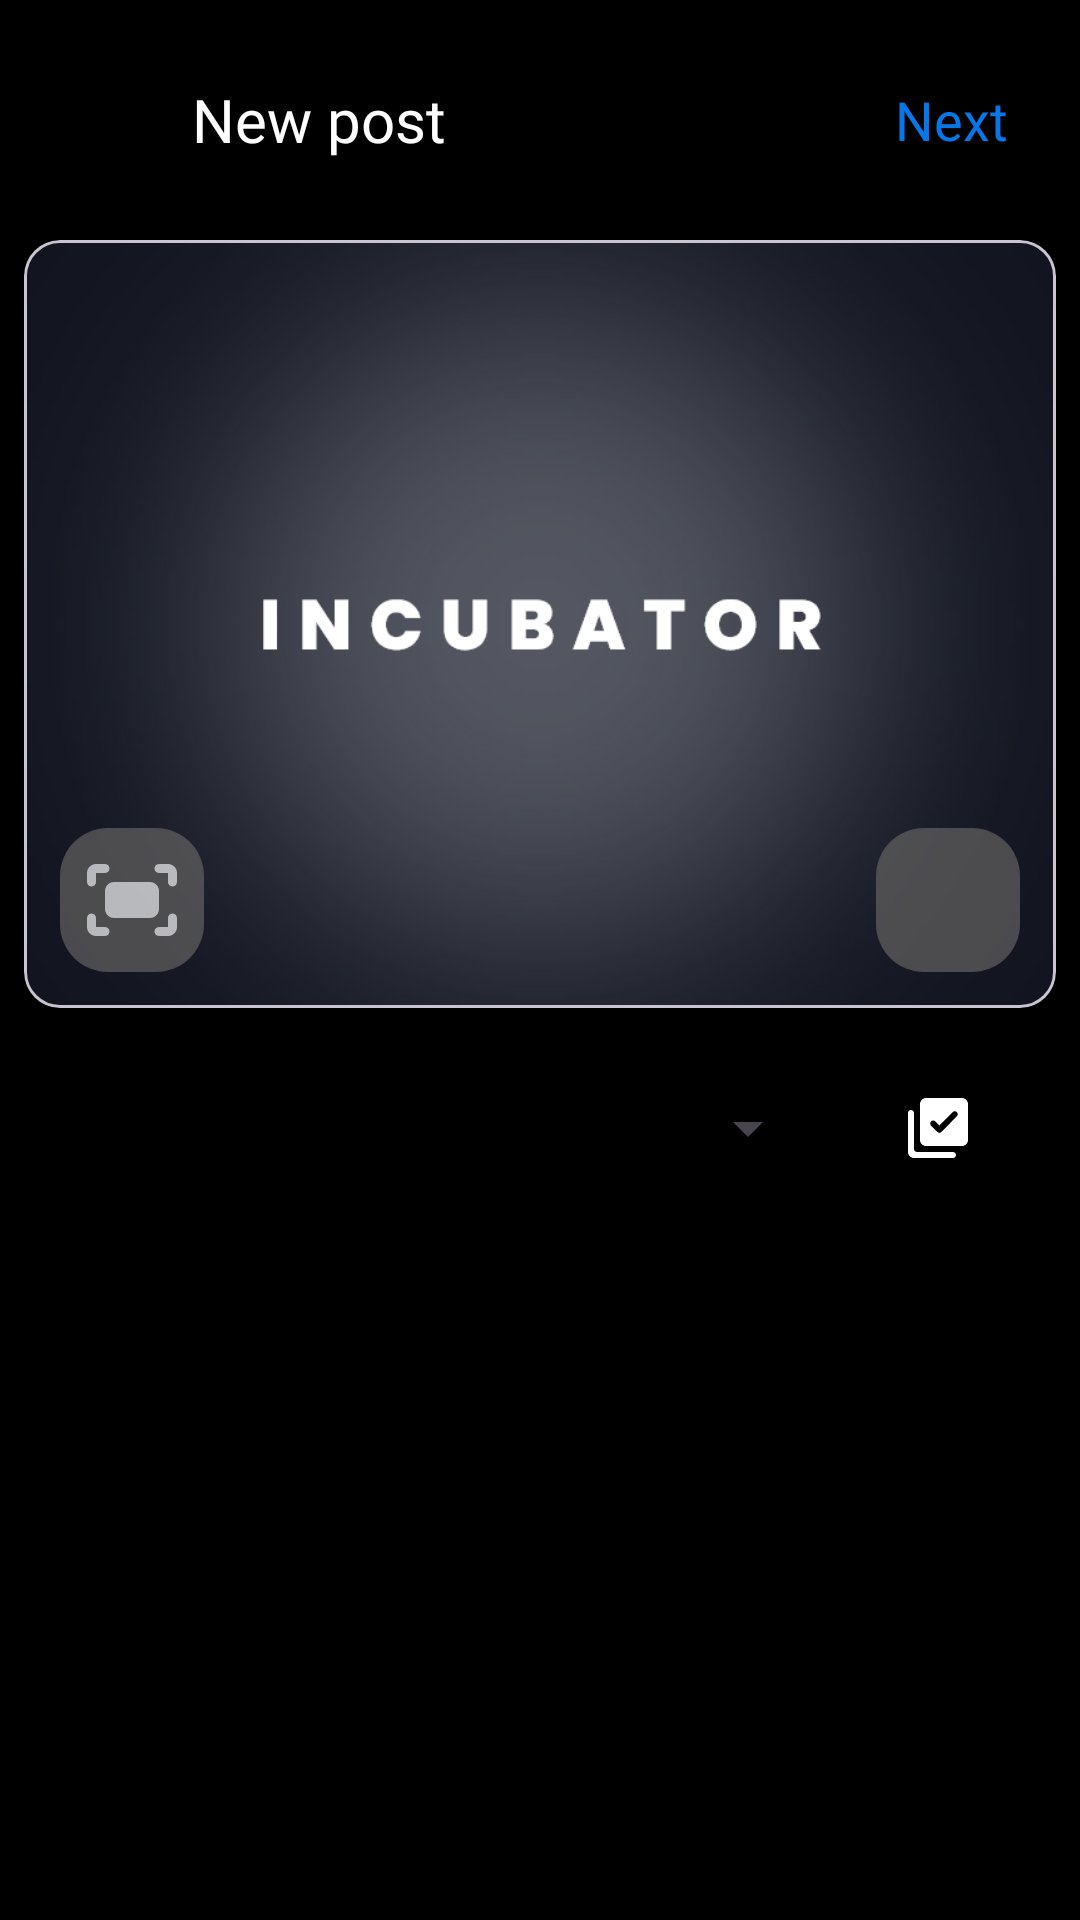

Where icons sit on this 1080w x 1920h app screen, as bbox=[x1, y1, x2, y2]:
fit screen: bbox=[60, 828, 204, 972]
select multiple check: bbox=[908, 1098, 968, 1158]
